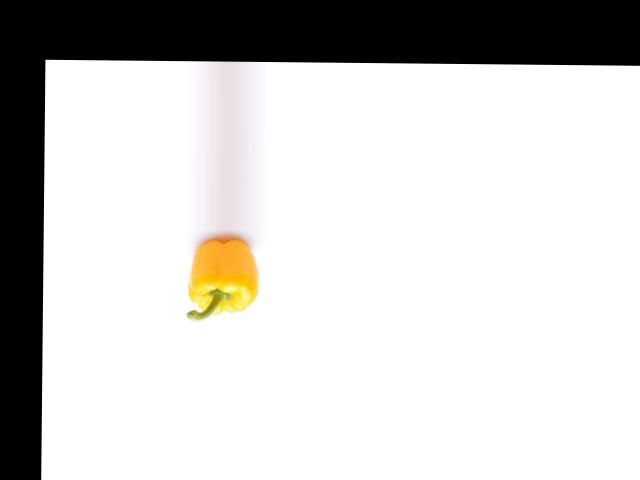bell_pepper: (184, 237, 265, 318)
